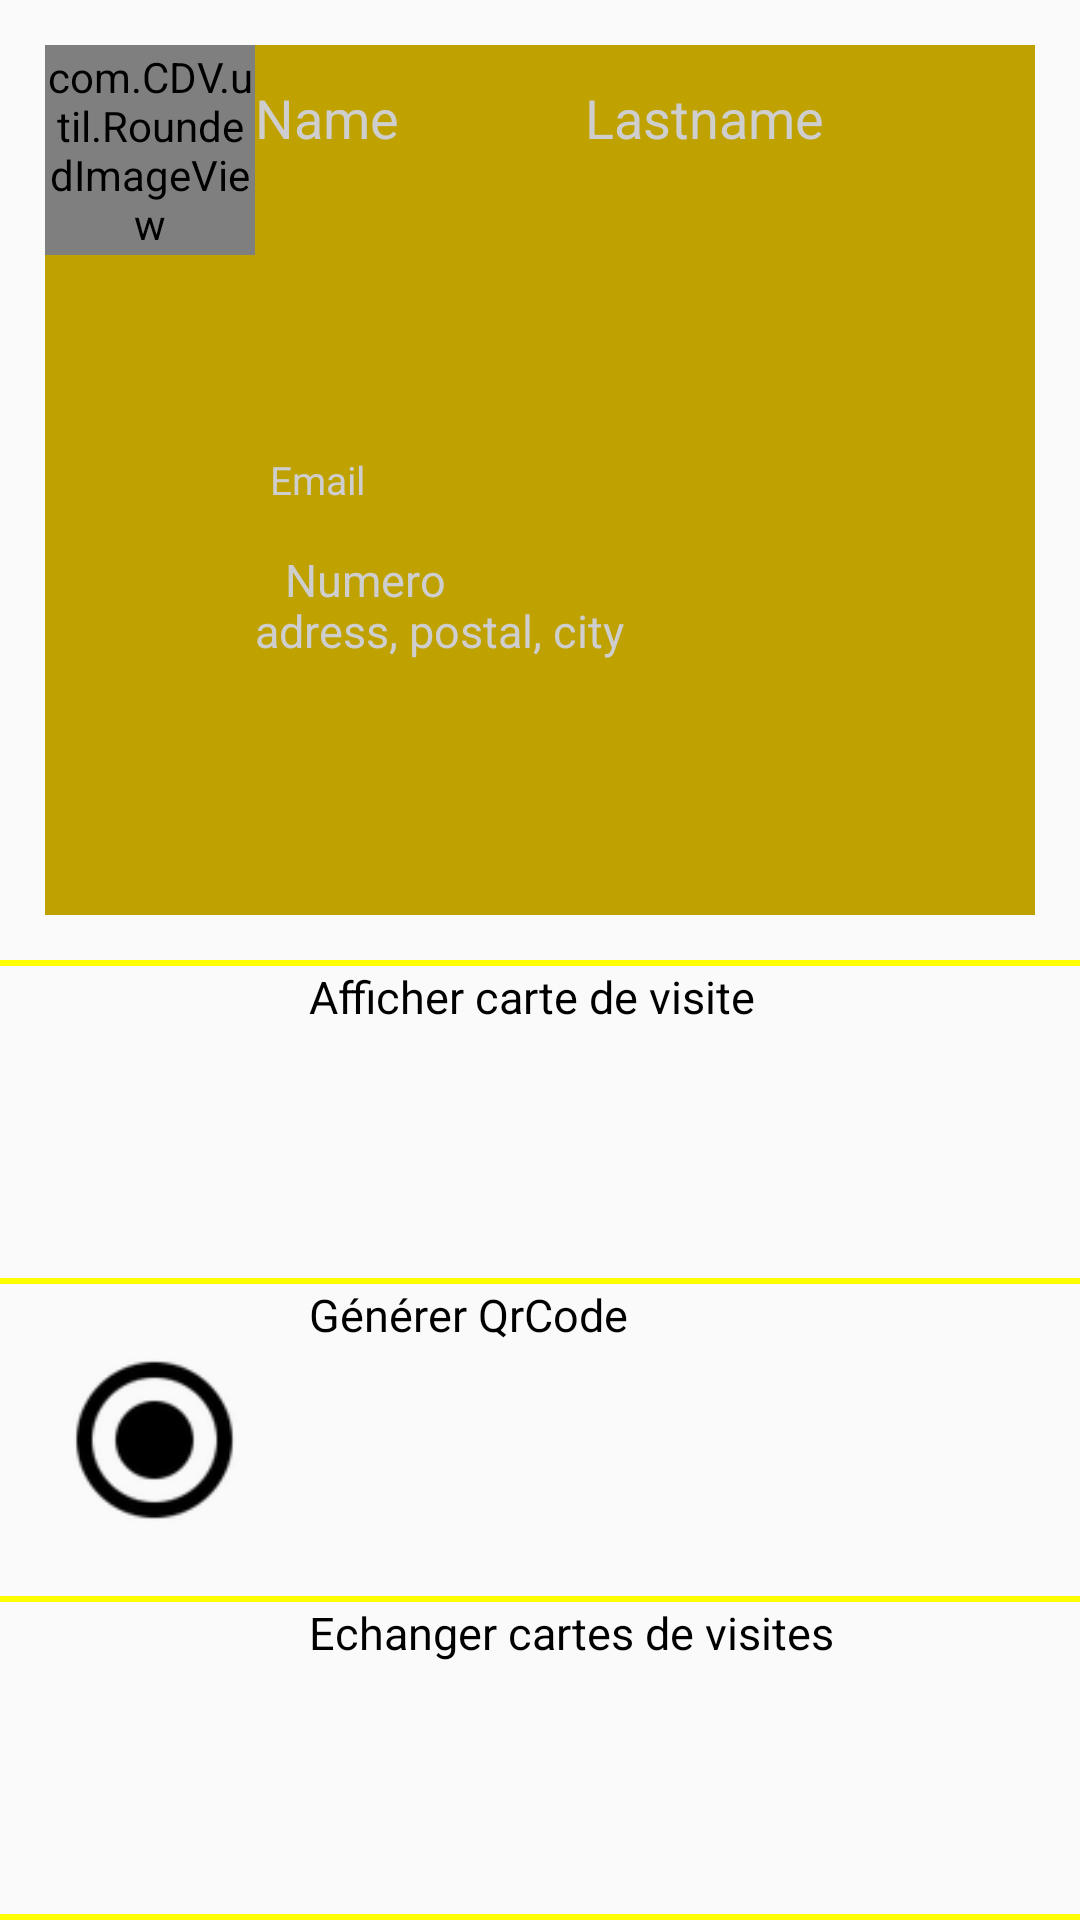

Icons on this 1080x1920 Android screen, each with its box as (x1, y1, x2, y2):
radio to on: (76, 1361, 233, 1519)
